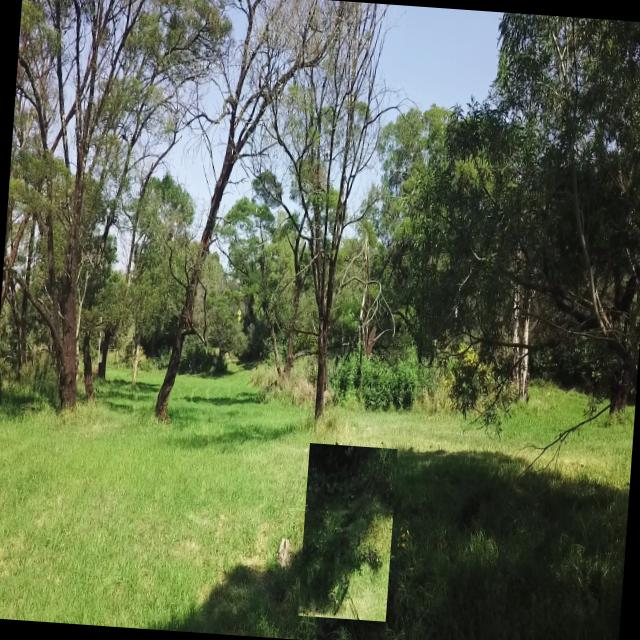Mysore-Thorn-Weed: (298, 443, 398, 621)
